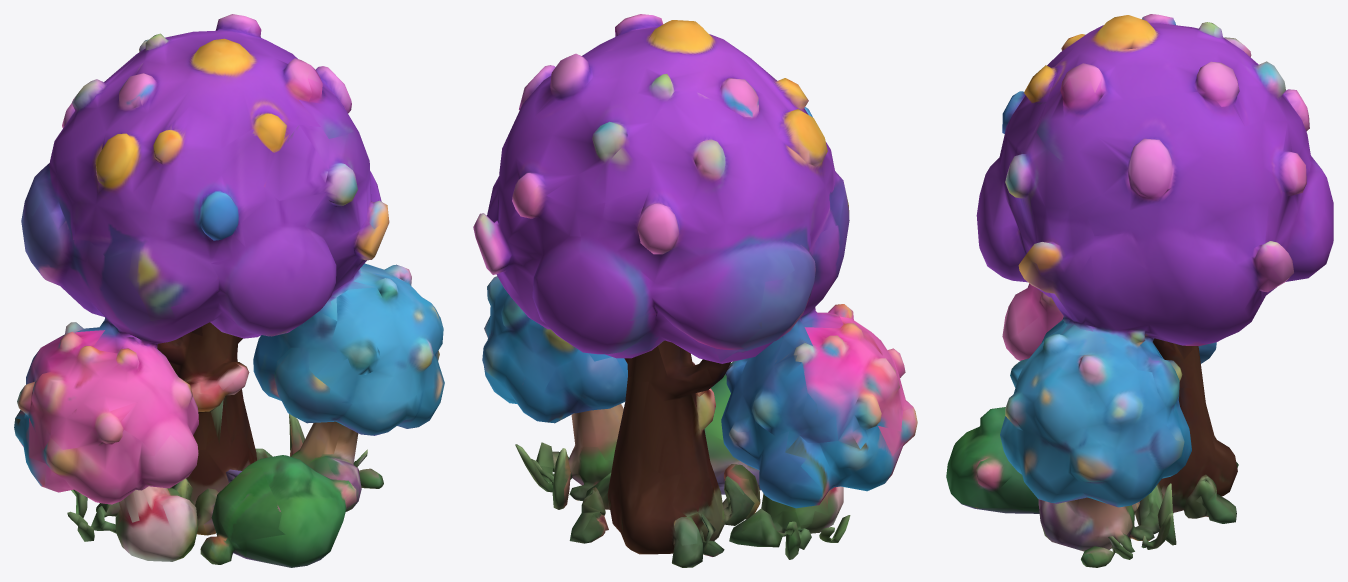
File: CF_PurpleTree.fbx
The picture shows the model from 3 angles, left to right: view 1: azimuth 30°, elevation 25°; view 2: azimuth 150°, elevation 25°; view 3: azimuth 270°, elevation 25°; orthographic projection. The views are drawn at different scales.
Parts seen in each view (by area): view 1: CF_PurpleTree; view 2: CF_PurpleTree; view 3: CF_PurpleTree.
Boxes of the visible parts, <box> form: CF_PurpleTree: <box>14,14,444,567</box>; CF_PurpleTree: <box>473,14,917,567</box>; CF_PurpleTree: <box>946,14,1333,567</box>.
Bounding box in the file's own units: 7.48 × 8.51 × 6.19.
